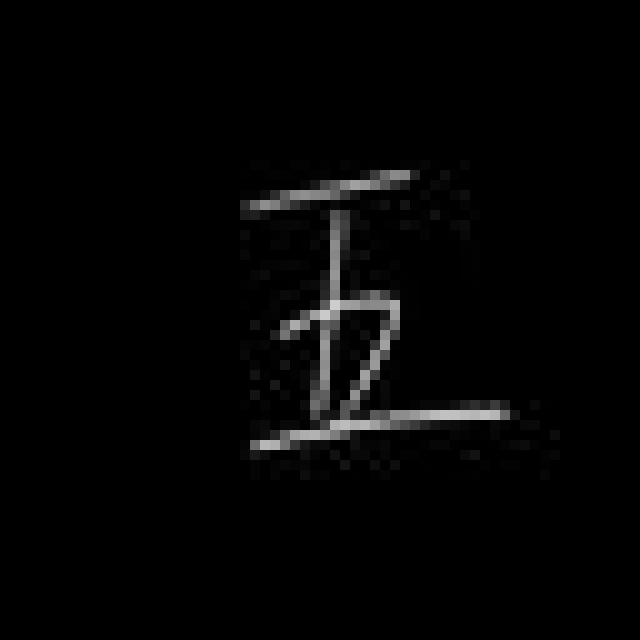5 -five-: (233, 149, 518, 462)
